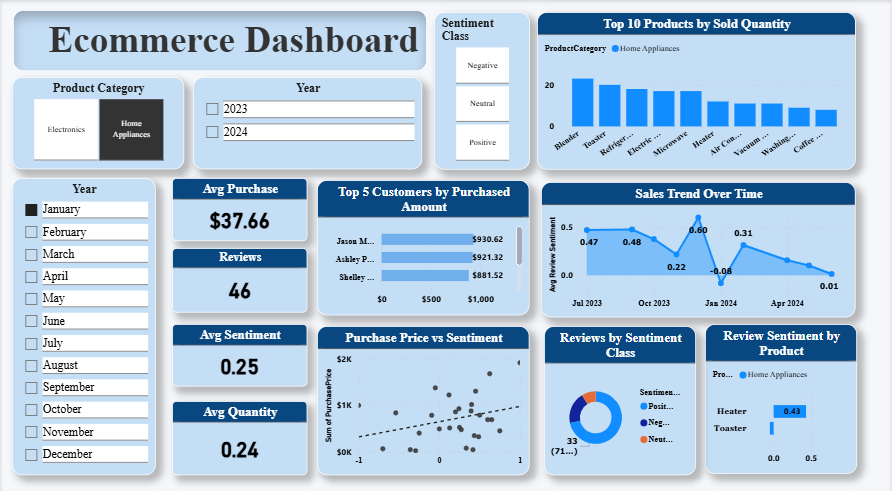

The page's visual inventory and layout, read from the dashboard file:
{"tool":"powerbi","page":{"name":"Customer & Sentiment Analysis","canvas":[1280,720],"ordinal":1},"visuals":[{"type":"textbox","title":"Ecommerce Dashboard","box":[15.1,13.8,596,88.1],"z":6000},{"type":"areaChart","title":"Sales Trend Over Time","fields":{"Category":["review_data.ReviewDate.Variation.Date Hierarchy.Year","review_data.ReviewDate.Variation.Date Hierarchy.Month"],"Y":["All Measures.product_review_sentiment"]},"box":[775.7,262.5,453.5,194.9],"z":7000},{"type":"slicer","title":"Product Category","fields":{"Values":["customer_purchase_db product.ProductCategory"]},"box":[14.6,111.4,248,132.6],"z":8000},{"type":"slicer","title":"Sentiment Class","fields":{"Values":["review_data.SentimentClass"]},"box":[621.9,17.2,137.9,226.7],"z":9000},{"type":"slicer","title":"Year","fields":{"Values":["customer_purchase_db transactions.PurchaseDate.Variation.Date Hierarchy.Month"]},"box":[14.6,255.9,206.9,428.3],"z":10000},{"type":"slicer","title":"Year","fields":{"Values":["transactions.PurchaseDate.Variation.Date Hierarchy.Year"]},"box":[274.5,111.4,330.2,132.6],"z":12000},{"type":"card","title":"Avg Purchase","fields":{"Values":["All Measures.avg_pur_cust"]},"box":[245.3,255.9,194.9,91.5],"z":13000},{"type":"card","title":"Avg Sentiment","fields":{"Values":["All Measures.product_review_sentiment"]},"box":[245.3,466.7,194.9,90.2],"z":15000},{"type":"card","title":"Reviews","fields":{"Values":["All Measures.number_of_review"]},"box":[245.3,356.7,194.9,92.8],"z":16000},{"type":"card","title":"Avg Quantity","fields":{"Values":["All Measures.avg_qty_cust"]},"box":[245.3,576.8,194.9,107.4],"z":17000},{"type":"clusteredBarChart","title":"Top 5 Customers by Purchased Amount","fields":{"Category":["customer_purchase_db customers.CustomerName"],"Y":["All Measures.Total Revenue"]},"box":[453.5,258.6,306.3,194.9],"z":19000},{"type":"columnChart","title":"Top 10 Products by Sold Quantity","fields":{"Category":["customer_purchase_db product.ProductName"],"Series":["product.ProductCategory"],"Y":["Sum(transactions.PurchaseQuantity)"]},"box":[770.4,17.2,458.8,226.7],"z":20000},{"type":"barChart","title":"Review Sentiment by Product","fields":{"Category":["product.ProductName"],"Series":["product.ProductCategory"],"Y":["All Measures.product_review_sentiment"]},"box":[1011.7,466.7,218.8,216.1],"z":21000},{"type":"donutChart","title":"Reviews by Sentiment Class","fields":{"Category":["review_data.SentimentClass"],"Y":["All Measures.number_of_review"]},"box":[781,469.4,218.8,214.8],"z":22000},{"type":"scatterChart","title":"Purchase Price vs Sentiment","fields":{"X":["review_data.ReviewSentiment"],"Y":["Sum(transactions.PurchasePrice)"]},"box":[453.5,469.4,306.3,214.8],"z":23000}]}

Visuals, with their boxes in screenshot pixels (x1, y1, x2, y2), scaled from the page's 1280x720 canvas onto the 892x491 screenshot:
"Ecommerce Dashboard" textbox: (left=11, top=9, right=426, bottom=69)
"Sales Trend Over Time" areaChart: (left=541, top=179, right=857, bottom=312)
"Product Category" slicer: (left=10, top=76, right=183, bottom=166)
"Sentiment Class" slicer: (left=433, top=12, right=529, bottom=166)
"Year" slicer: (left=10, top=175, right=154, bottom=467)
"Year" slicer: (left=191, top=76, right=421, bottom=166)
"Avg Purchase" card: (left=171, top=175, right=307, bottom=237)
"Avg Sentiment" card: (left=171, top=318, right=307, bottom=380)
"Reviews" card: (left=171, top=243, right=307, bottom=307)
"Avg Quantity" card: (left=171, top=393, right=307, bottom=467)
"Top 5 Customers by Purchased Amount" clusteredBarChart: (left=316, top=176, right=529, bottom=309)
"Top 10 Products by Sold Quantity" columnChart: (left=537, top=12, right=857, bottom=166)
"Review Sentiment by Product" barChart: (left=705, top=318, right=858, bottom=466)
"Reviews by Sentiment Class" donutChart: (left=544, top=320, right=697, bottom=467)
"Purchase Price vs Sentiment" scatterChart: (left=316, top=320, right=529, bottom=467)
